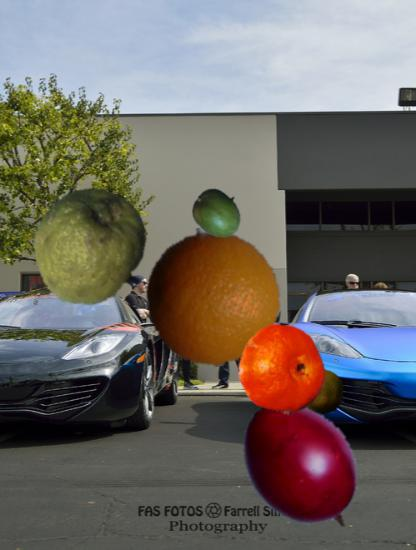Clementine: (234, 323, 330, 419)
Limes: (31, 188, 153, 310)
Mango: (192, 187, 245, 240)
Orange: (143, 227, 283, 367)
Papaya: (55, 203, 137, 285), (277, 355, 346, 424)
Tamarillo: (230, 395, 378, 543)
